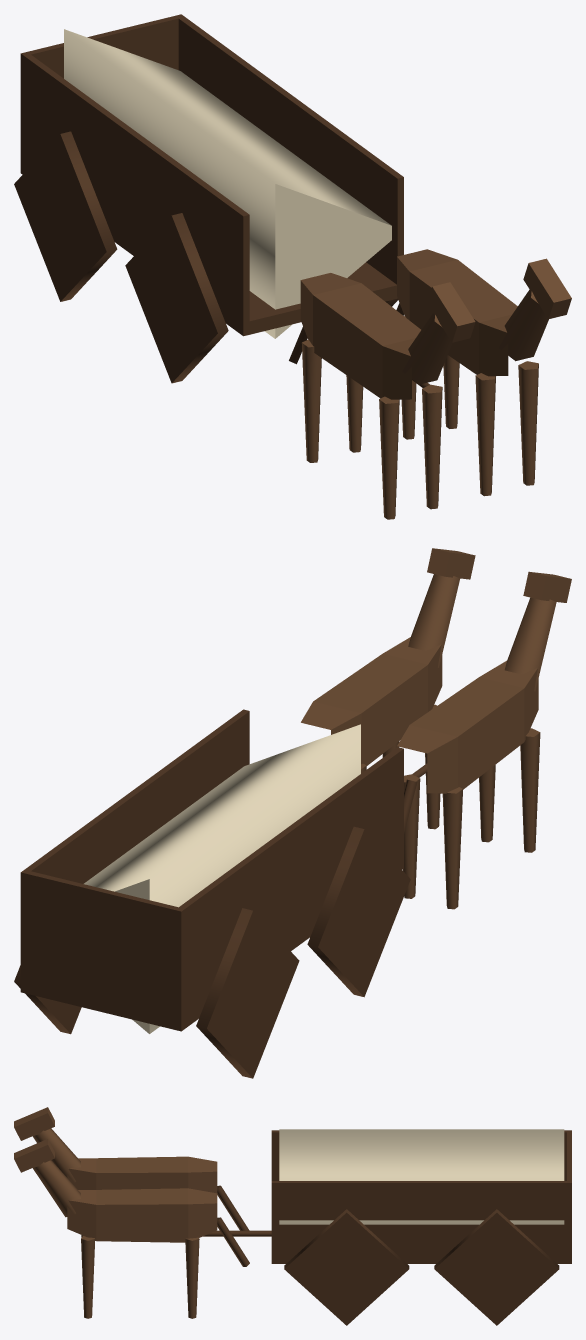
The model's file is veh_ground_wagon_a05_lod2.glb.
3 views of the same model, one above another, from view 1: azimuth 30°, elevation 25°; view 2: azimuth 150°, elevation 25°; view 3: azimuth 270°, elevation 25° (orthographic). The views are drawn at different scales.
Parts seen in each view (by area): view 1: body, animal_0, animal_1, wheel_2, wheel_0; view 2: body, animal_0, animal_1, wheel_0, wheel_2, wheel_1; view 3: body, animal_1, wheel_3, wheel_1, animal_0.
Part boxes in pixels (x1,y1,x2,y2): body: (20, 14, 429, 387); animal_0: (289, 273, 475, 519); animal_1: (396, 249, 571, 496); wheel_2: (125, 213, 228, 383); wheel_0: (14, 131, 117, 301); body: (20, 709, 427, 1033); animal_0: (397, 571, 571, 909); animal_1: (301, 548, 475, 829); wheel_0: (196, 908, 299, 1078); wheel_2: (307, 826, 410, 997); wheel_1: (14, 965, 81, 1034); body: (203, 1129, 571, 1263); animal_1: (14, 1139, 249, 1318); wheel_3: (284, 1209, 409, 1325); wheel_1: (434, 1209, 559, 1325); animal_0: (14, 1107, 249, 1230).
Bounding box in the file's own units: 1.8 × 2.23 × 6.69.
